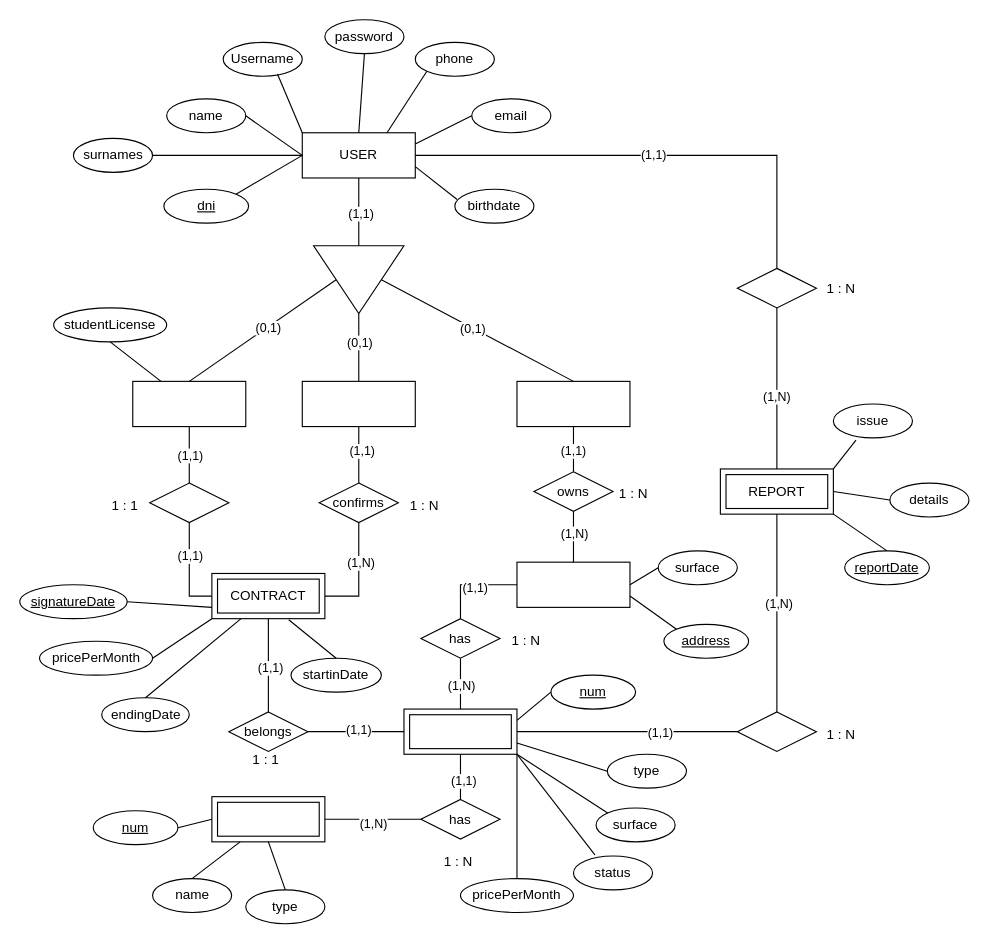
Image size: 989x944. Some labels were removed from this diagram. Each missing label, with the box of its shape:
ADMIN: (301, 380, 415, 427)
belong: (736, 711, 816, 751)
FURNITURE: (211, 796, 325, 842)
IS A: (312, 245, 404, 314)
makes: (736, 267, 816, 308)
OWNER: (516, 380, 630, 427)
PROPERTY: (516, 561, 630, 607)
ROOM: (403, 708, 517, 754)
signs: (149, 482, 229, 523)
TENANT: (132, 380, 246, 427)
